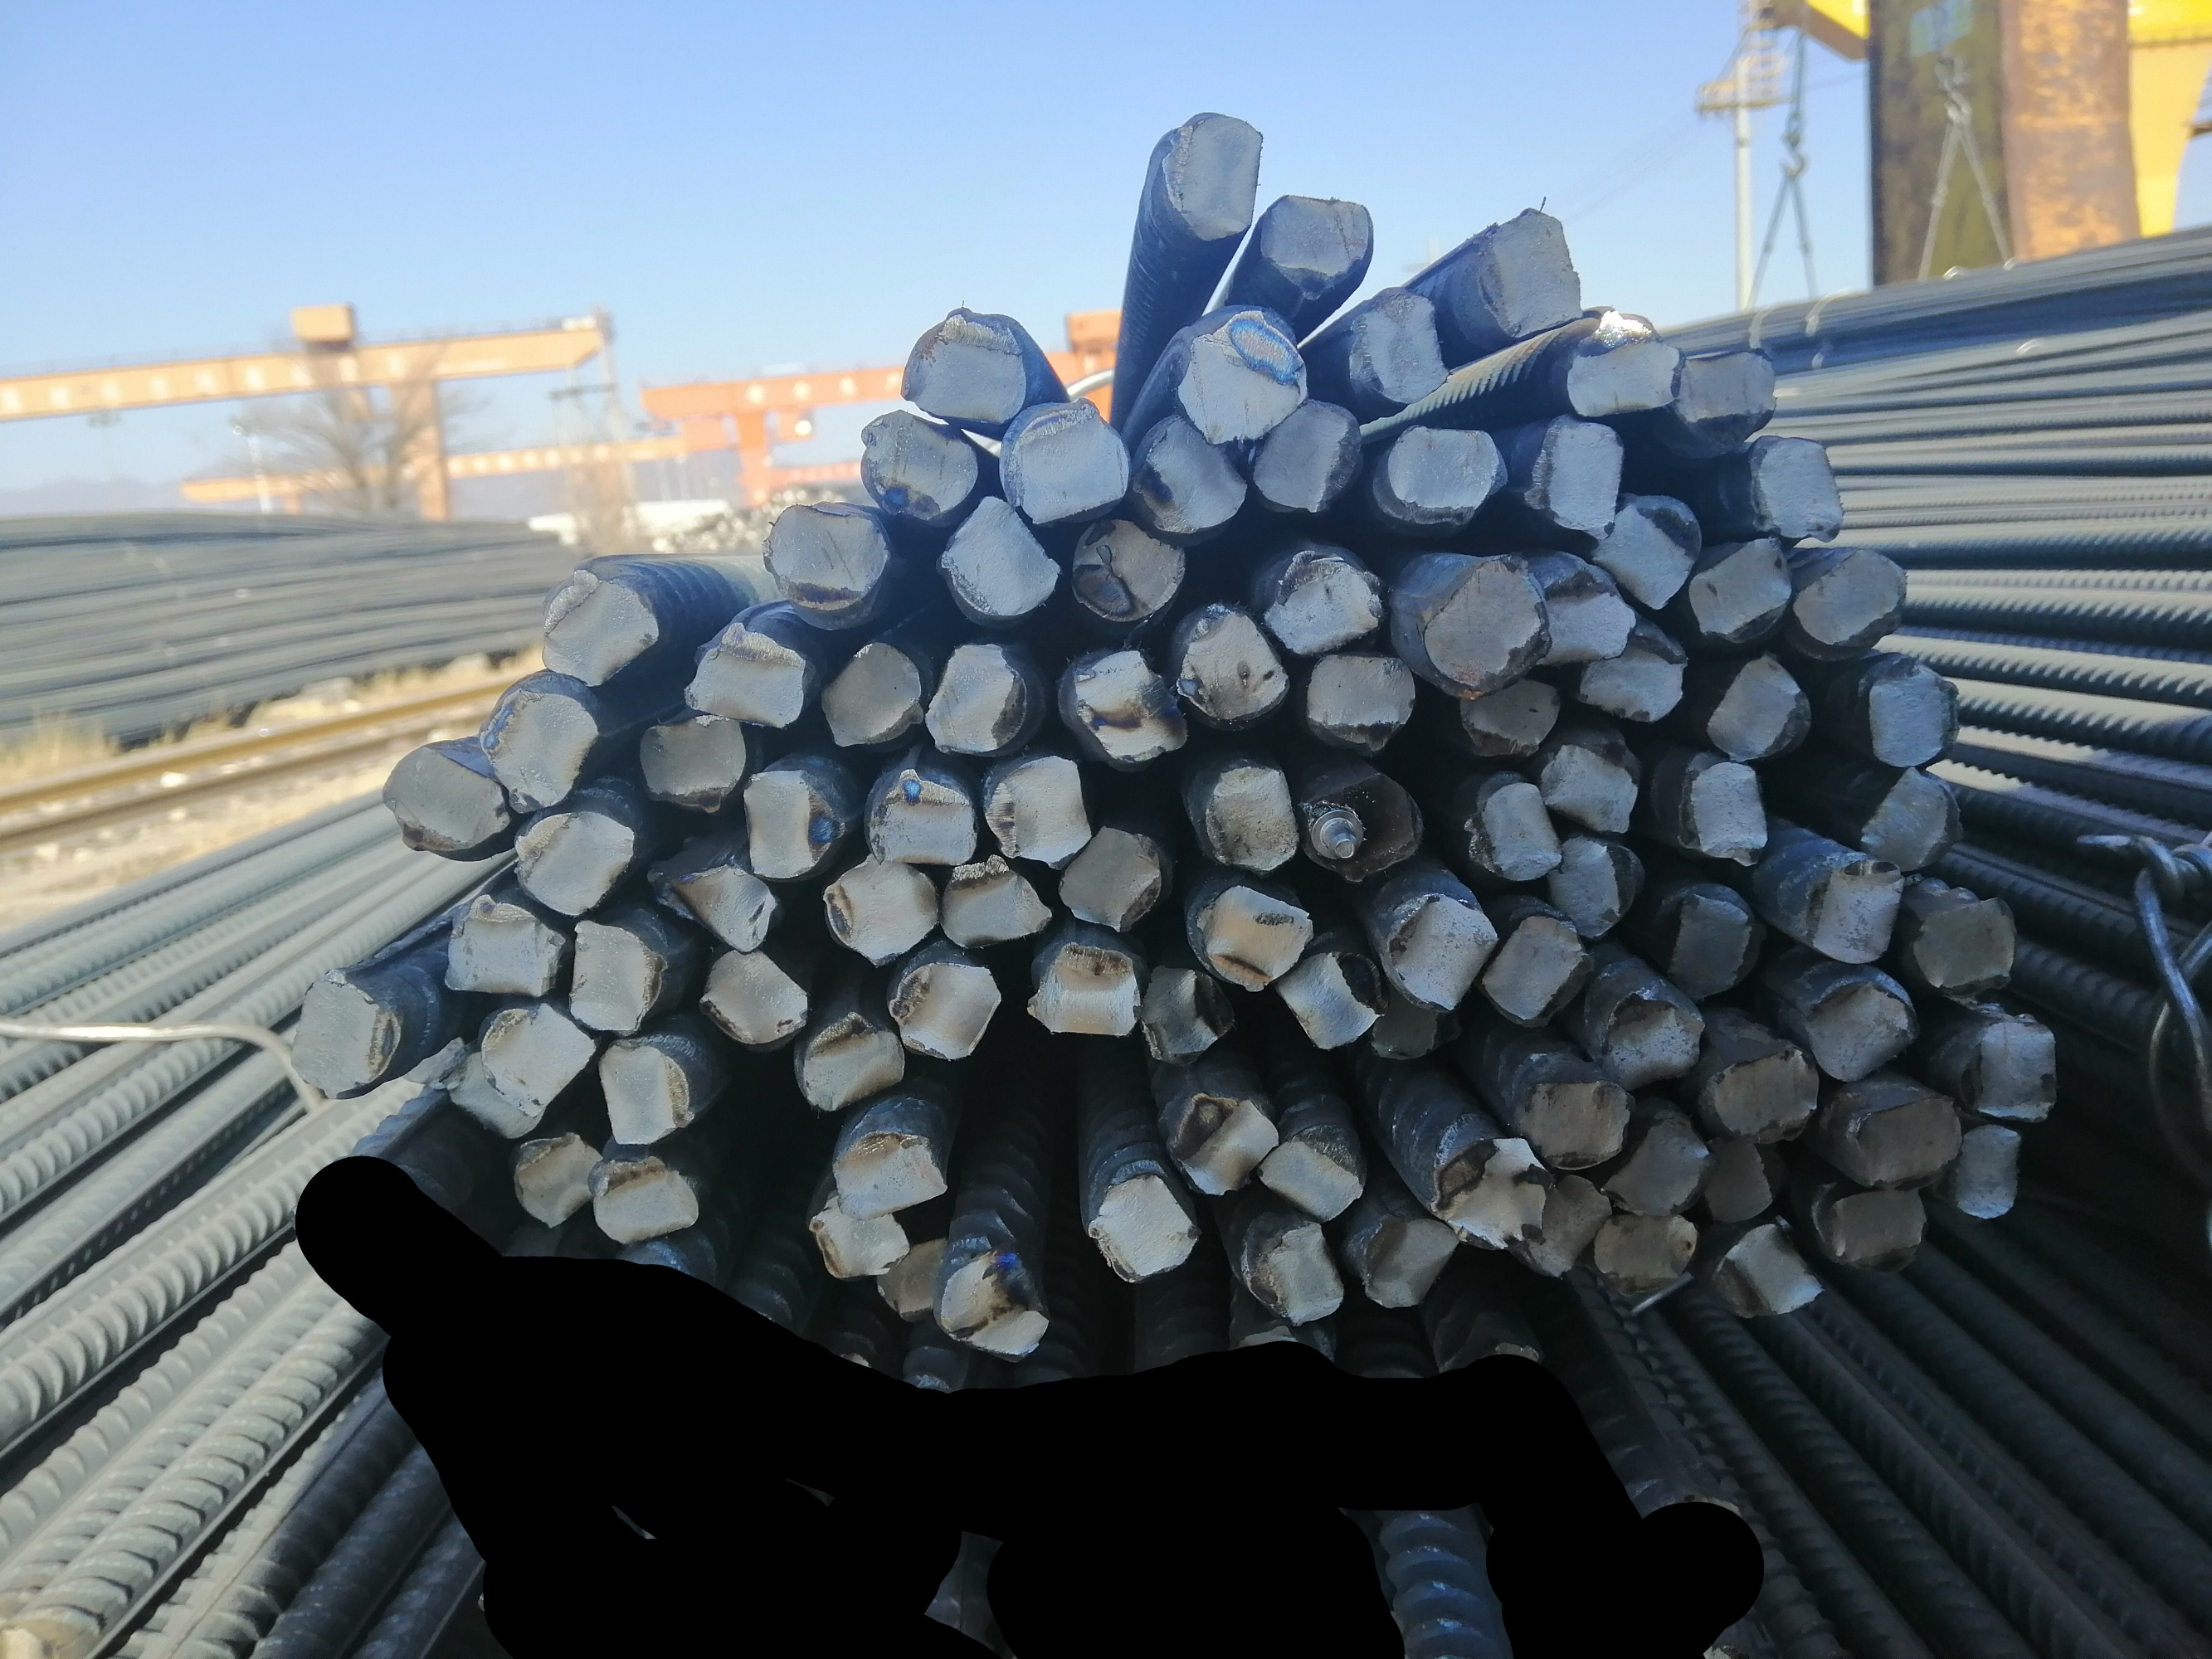rebar: (1421, 554, 1553, 699), (1177, 307, 1311, 443), (1002, 394, 1135, 523), (525, 566, 661, 692), (899, 303, 1037, 427), (474, 685, 600, 817), (1468, 207, 1588, 343), (938, 495, 1063, 620), (762, 497, 892, 615), (1475, 903, 1591, 1035), (380, 742, 511, 859), (1799, 965, 1923, 1087), (1154, 106, 1264, 242), (1166, 598, 1288, 720), (1428, 1133, 1550, 1255), (284, 971, 399, 1100), (683, 615, 812, 728), (934, 1246, 1056, 1364), (1131, 415, 1250, 537), (1067, 647, 1191, 763), (476, 1002, 596, 1121), (1790, 545, 1910, 664), (784, 1002, 908, 1117), (504, 809, 640, 913), (1252, 389, 1361, 516), (1260, 547, 1388, 657), (1381, 885, 1496, 1006), (444, 890, 568, 1002), (1191, 884, 1314, 995), (1525, 554, 1637, 678), (818, 854, 940, 965), (861, 408, 983, 519), (1302, 770, 1424, 882), (1700, 1040, 1823, 1150), (1259, 190, 1377, 303), (1590, 495, 1703, 612), (1907, 892, 2020, 1009), (1086, 1166, 1199, 1283), (922, 636, 1032, 756), (1344, 284, 1450, 408), (934, 847, 1056, 953), (1523, 413, 1626, 538), (1072, 512, 1185, 626), (1853, 765, 1966, 878), (1569, 307, 1684, 418), (1792, 854, 1907, 965), (1023, 938, 1143, 1044), (824, 1121, 950, 1222), (983, 755, 1096, 866), (1271, 941, 1384, 1053), (563, 917, 666, 1039), (1382, 423, 1508, 523), (1236, 1216, 1347, 1328), (814, 640, 924, 753), (1605, 1108, 1715, 1222), (734, 767, 842, 882), (1572, 620, 1691, 725), (1701, 652, 1813, 762), (587, 1039, 695, 1152), (1056, 823, 1170, 931), (1196, 760, 1302, 875), (659, 859, 781, 958), (1452, 774, 1564, 882), (1665, 342, 1780, 446), (1708, 1222, 1823, 1326), (1844, 1091, 1963, 1192), (695, 948, 816, 1047), (859, 770, 981, 868), (1855, 657, 1963, 767), (1504, 1169, 1612, 1279), (1140, 951, 1236, 1075), (1659, 889, 1764, 1002), (1170, 1089, 1279, 1195), (891, 957, 1004, 1060), (1689, 533, 1792, 647), (1588, 1209, 1701, 1312), (1747, 432, 1848, 547), (1591, 992, 1706, 1093), (1959, 1014, 2064, 1124), (1672, 758, 1774, 870), (638, 714, 751, 816), (1304, 652, 1417, 751), (1520, 1072, 1633, 1171), (587, 1154, 706, 1248), (1353, 1208, 1459, 1310), (1537, 829, 1633, 941), (1822, 1183, 1928, 1281), (804, 1192, 915, 1283), (507, 1127, 605, 1230), (439, 1051, 549, 1140), (1259, 1138, 1367, 1227), (1543, 742, 1640, 840), (1459, 681, 1564, 763), (1700, 1131, 1783, 1227), (1952, 1122, 2027, 1227), (872, 1236, 950, 1326), (1360, 985, 1450, 1063)
